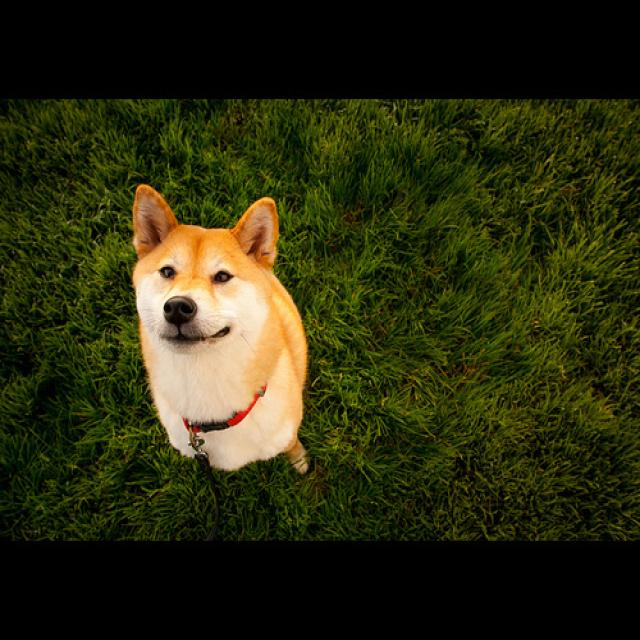dog-shiba_inu: (127, 177, 316, 483)
